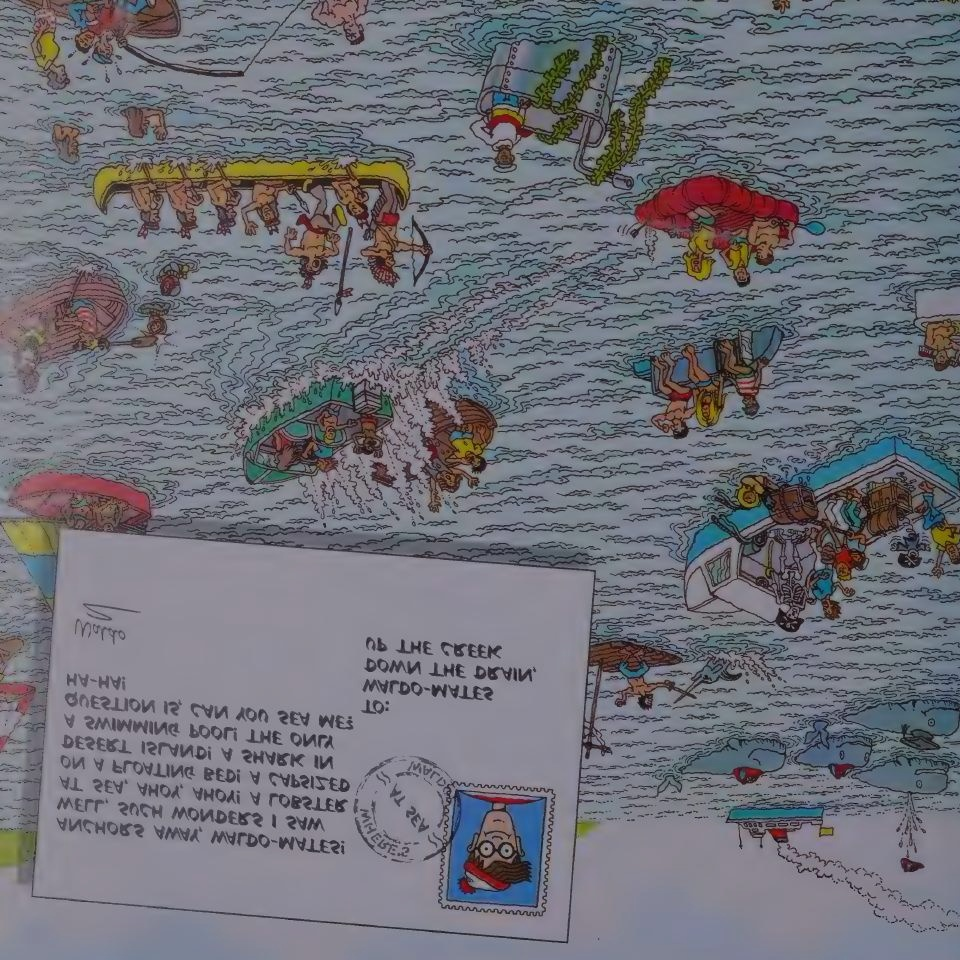waldo: (456, 793, 534, 898)
